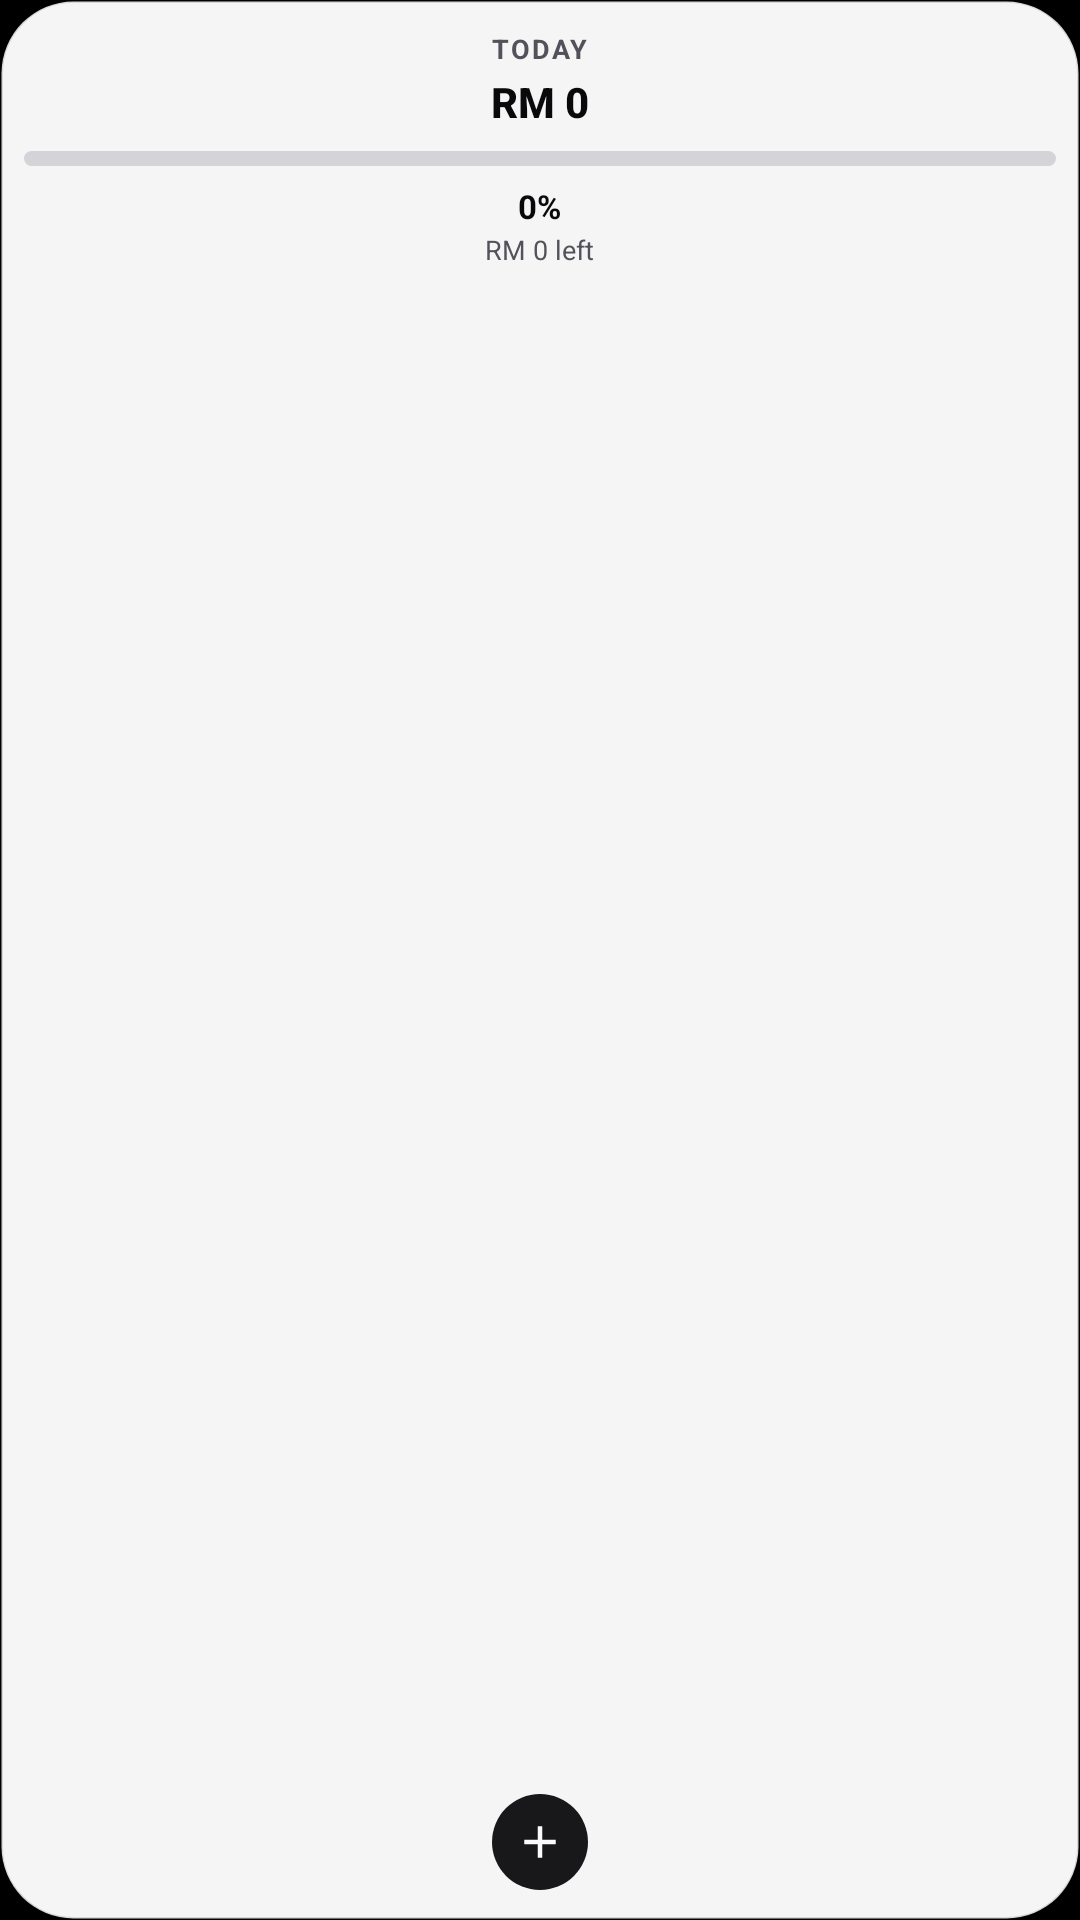

Screen size 1080 x 1920. Icon name, then its center in pixels as point (x, y):
Add expense: point (540, 1842)
